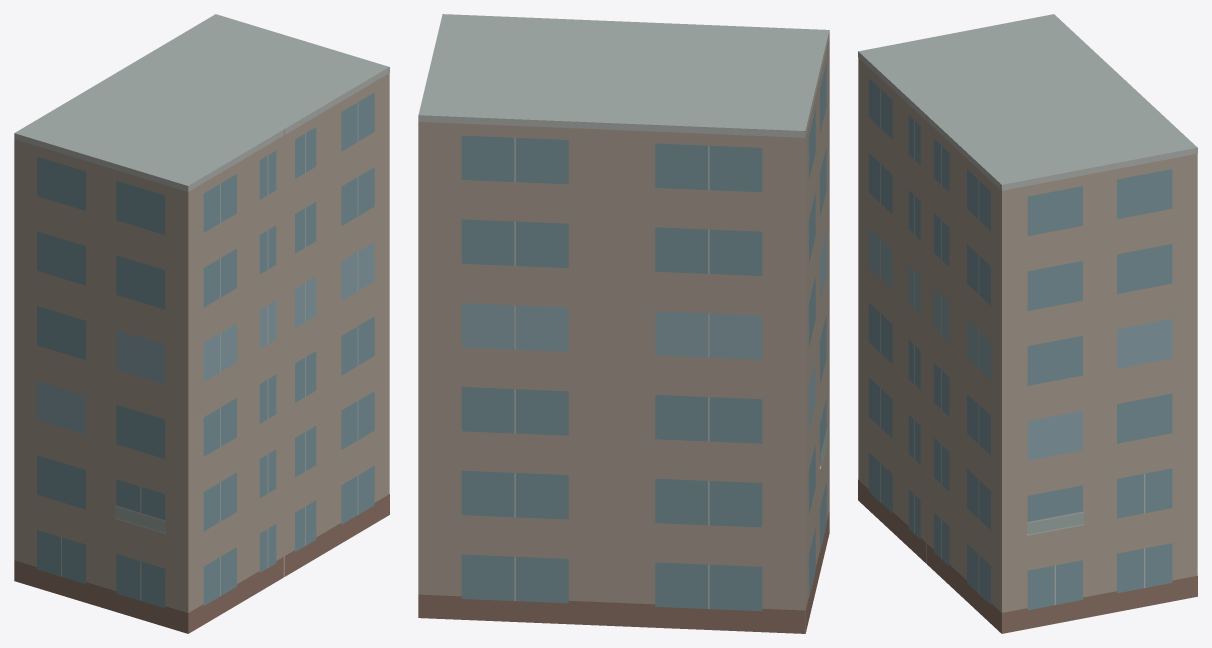
Rendered from survey-upis-32736657.glb.
The picture shows the model from 3 angles, left to right: view 1: azimuth 30°, elevation 25°; view 2: azimuth 150°, elevation 25°; view 3: azimuth 270°, elevation 25°; orthographic projection. The views are drawn at different scales.
Visible parts, largest first — view 1: survey-upis-32736657.tmp; view 2: survey-upis-32736657.tmp; view 3: survey-upis-32736657.tmp.
Part boxes in pixels (x1,y1,x2,y2): survey-upis-32736657.tmp: [14, 14, 389, 633]; survey-upis-32736657.tmp: [418, 14, 829, 633]; survey-upis-32736657.tmp: [858, 14, 1197, 633].
Size of the model in its own units: 14.95 by 18.3 by 12.55.
